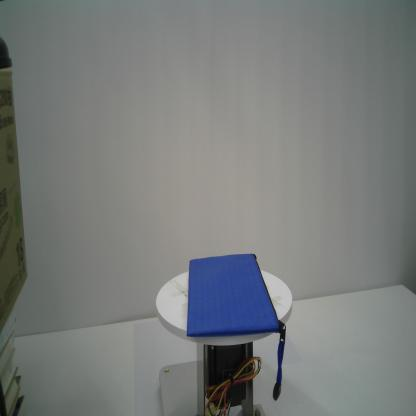Stationery: (186, 251, 288, 402)
